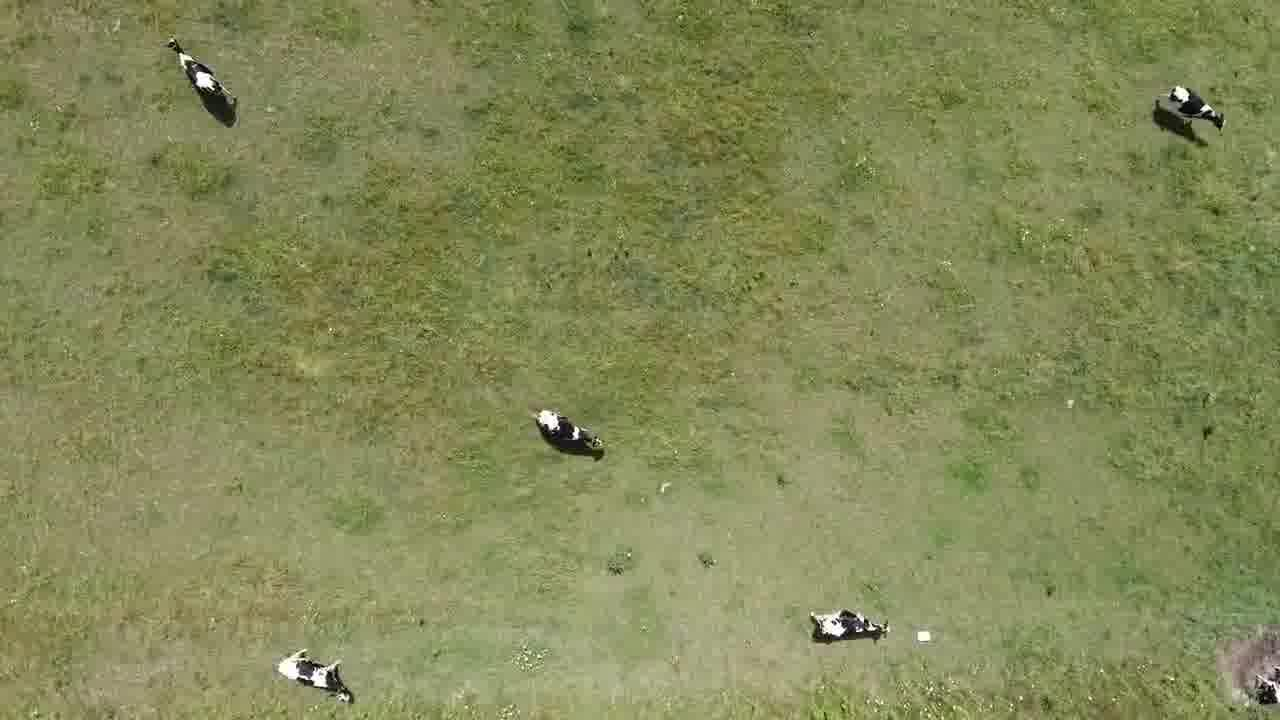cow: (163, 32, 241, 116), (271, 643, 356, 707), (1156, 78, 1229, 140), (532, 405, 608, 459), (807, 605, 894, 647), (1254, 663, 1280, 706)
